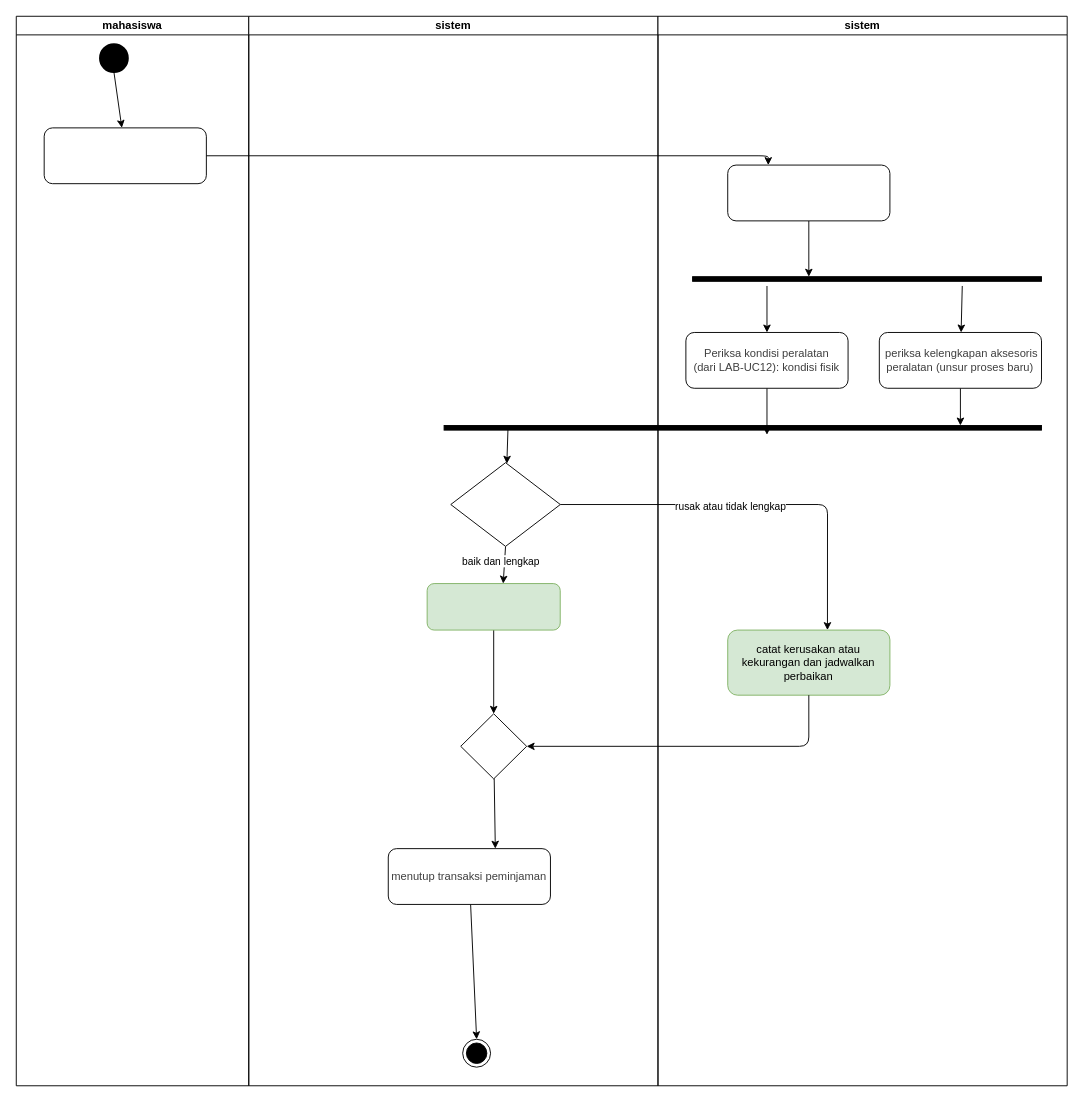
This 1083x1102 diagram has some shape labels left out. The shapes that lost their labels are listed below. From the top down, each one's centre as x and y in pixels, then its label:
At [124,155]: "menyerahkan peralatan yang dipinjam".
At [808,192]: "catat pengembalian (LAB-UC11)".
At [505,504]: "kondisi peralatan baik dan lengkap?".
At [493,606]: "perbarui status peralatan menjadi tersedia".
